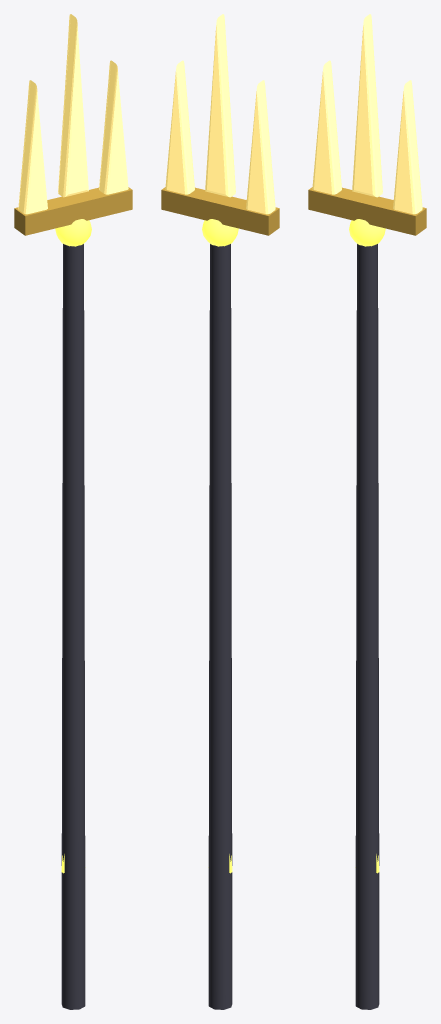
Rendered from spear_f2_8f9b6f77.glb.
3 renders of one model, left to right at view 1: azimuth 30°, elevation 25°; view 2: azimuth 150°, elevation 25°; view 3: azimuth 330°, elevation 25°, orthographic.
Parts seen in each view (by area): view 1: m0_ow80_, m6_ow80_, m4_ow80_, m5_gm160_; view 2: m0_ow80_, m6_ow80_, m4_ow80_, m5_gm160_; view 3: m0_ow80_, m6_ow80_, m4_ow80_, m5_gm160_.
Boxes of the visible parts, x1=… form: m0_ow80_: x1=61, y1=244, x2=85, y2=1009; m6_ow80_: x1=18, y1=14, x2=128, y2=214; m4_ow80_: x1=14, y1=187, x2=132, y2=235; m5_gm160_: x1=55, y1=219, x2=91, y2=246; m0_ow80_: x1=208, y1=244, x2=232, y2=1009; m6_ow80_: x1=165, y1=14, x2=275, y2=214; m4_ow80_: x1=161, y1=187, x2=279, y2=235; m5_gm160_: x1=202, y1=219, x2=238, y2=246; m0_ow80_: x1=355, y1=244, x2=379, y2=1009; m6_ow80_: x1=312, y1=14, x2=422, y2=214; m4_ow80_: x1=308, y1=187, x2=426, y2=235; m5_gm160_: x1=349, y1=219, x2=385, y2=246.
Bounding box in the file's own units: 0.4 × 3.52 × 0.1141.
